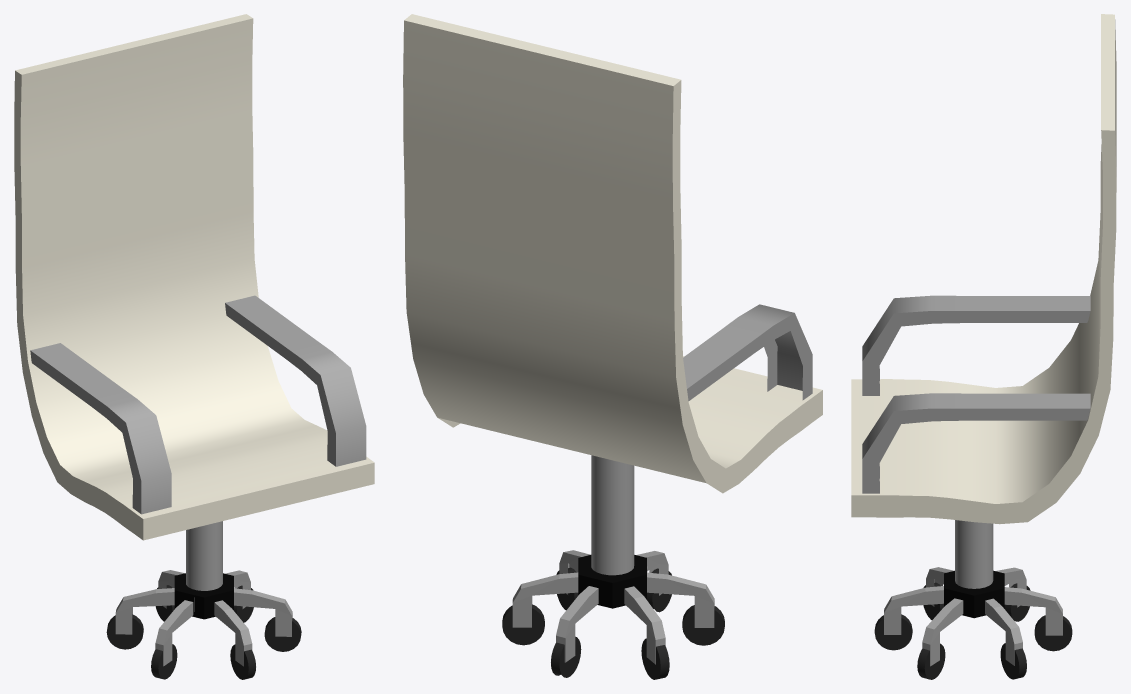
File: Chair_Clean.fbx
3 renders of one model, left to right at view 1: azimuth 30°, elevation 25°; view 2: azimuth 150°, elevation 25°; view 3: azimuth 270°, elevation 25°, orthographic. The views are drawn at different scales.
Parts seen in each view (by area): view 1: pCube6; view 2: pCube6; view 3: pCube6.
Part boxes in pixels (box(x1,y1,x2,y2)): pCube6: box(14, 14, 374, 679); pCube6: box(403, 14, 822, 679); pCube6: box(851, 14, 1116, 679).
Size of the model in its own units: 0.4066 by 0.9373 by 0.3924.
1 material, 1 textured.
